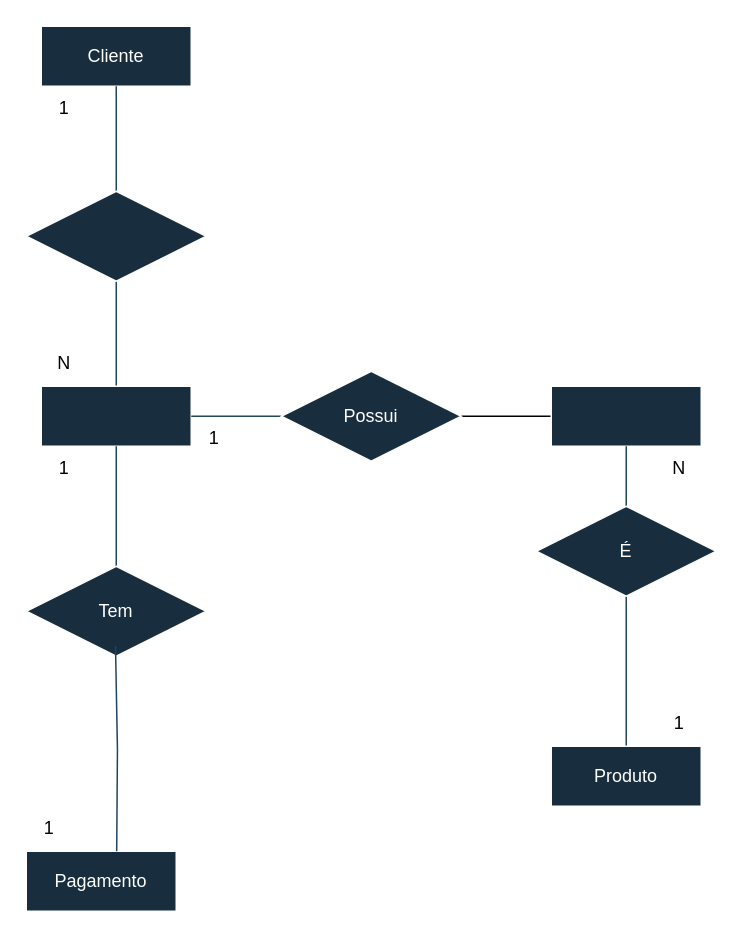
Some shapes in this 743 by 938 pixel diagram are drawn without their labels. The shapes that lost their labels are listed below. From the top down, each one's centre as x and y in pixels, then its label:
At (115,235): "Faz".
At (115,415): "Pedido".
At (625,415): "Item do pedido".
